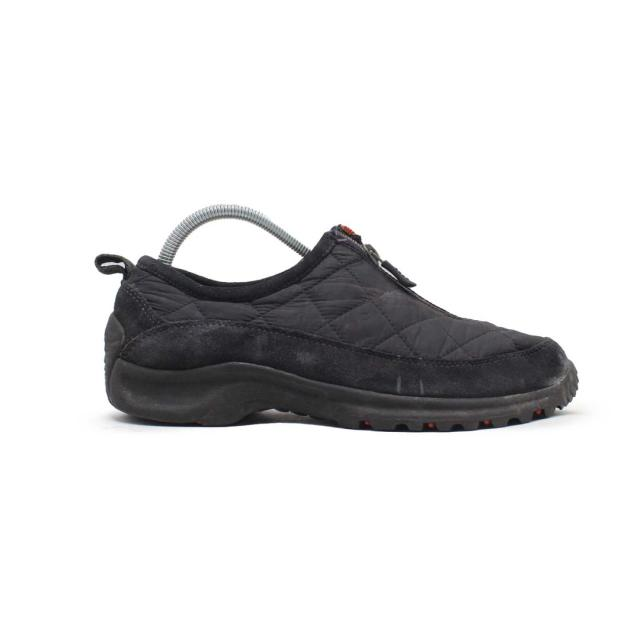heel: (98, 251, 189, 367)
midsole: (105, 312, 578, 431)
uppersole: (180, 225, 568, 400)
